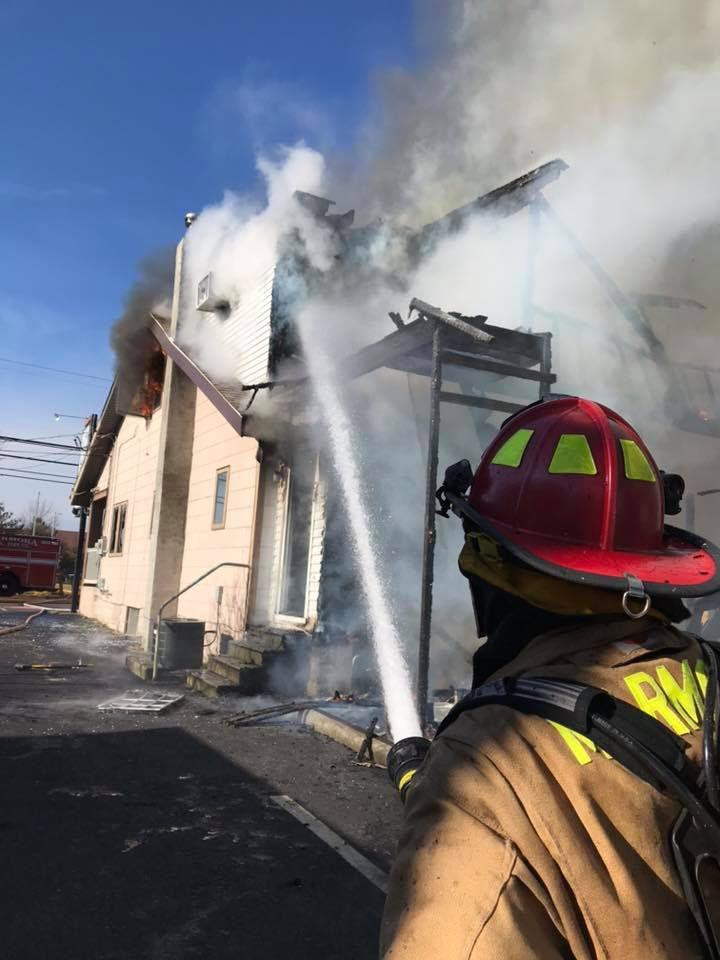smoke: (467, 25, 698, 295)
